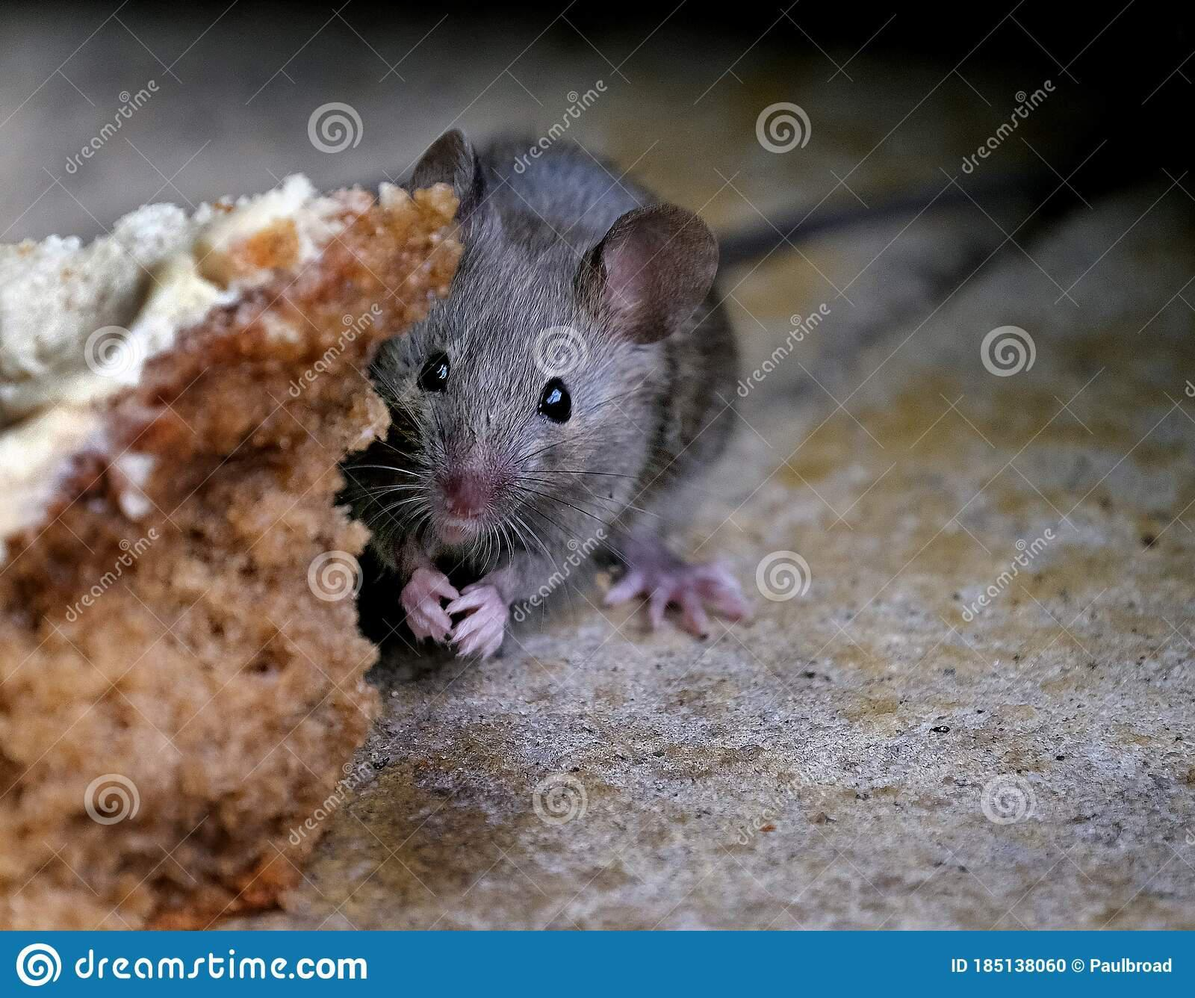rat: (342, 127, 751, 666)
